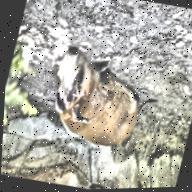boar: (39, 43, 168, 159)
